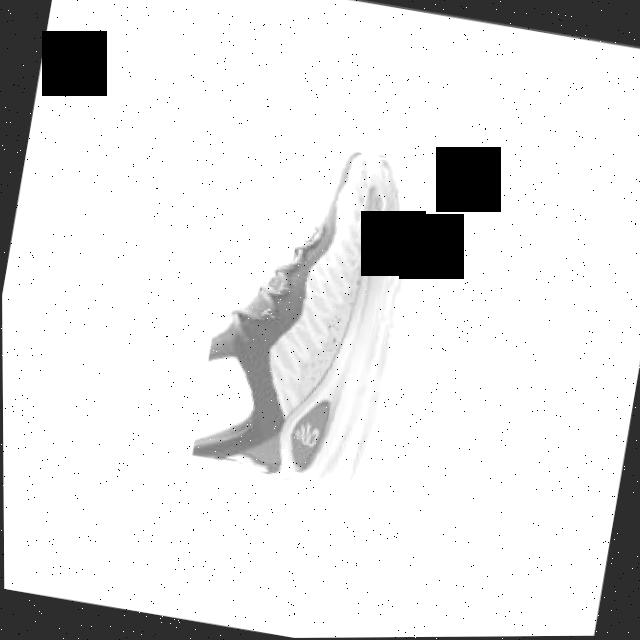shoe: (187, 128, 426, 501)
